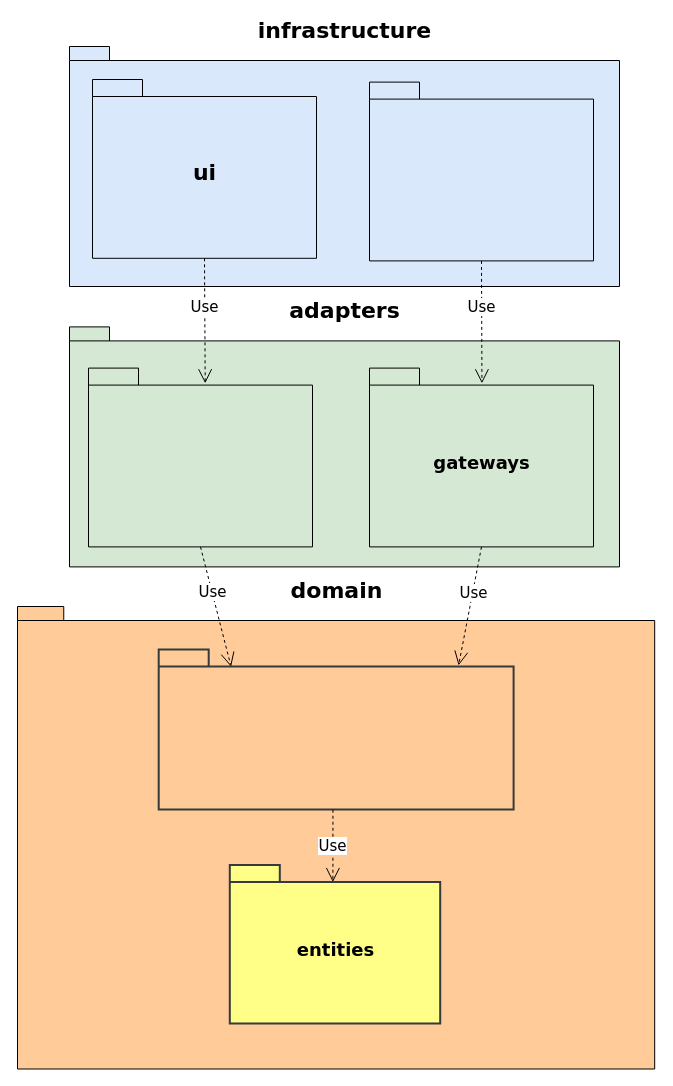
Some shapes in this 673 by 1086 pixel diagram are drawn without their labels. Here are the shapes that lost their labels. From the top down, the centre of each, then its label:
At point 481,171: "api".
At point 200,457: "presenters".
At point 335,729: "usecases".
